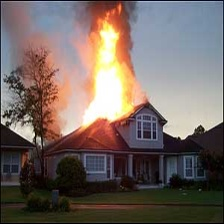fire: (82, 22, 129, 130)
smoke: (6, 4, 66, 137), (86, 3, 147, 35)
